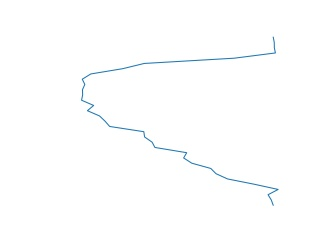mouthBar: (74, 41, 286, 208)
